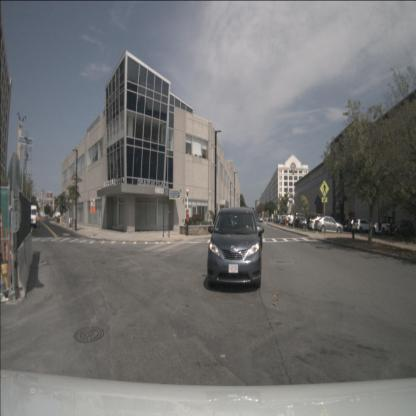vehicle-car: (208, 207, 262, 289), (314, 216, 344, 234), (372, 216, 396, 236), (392, 221, 413, 238), (307, 212, 329, 228), (309, 216, 332, 231), (293, 212, 310, 228), (354, 219, 372, 234), (344, 218, 362, 232), (298, 216, 314, 230), (285, 214, 299, 228), (280, 214, 291, 224), (276, 215, 285, 224)
vehicle-truck: (26, 205, 37, 227), (53, 211, 61, 218)
